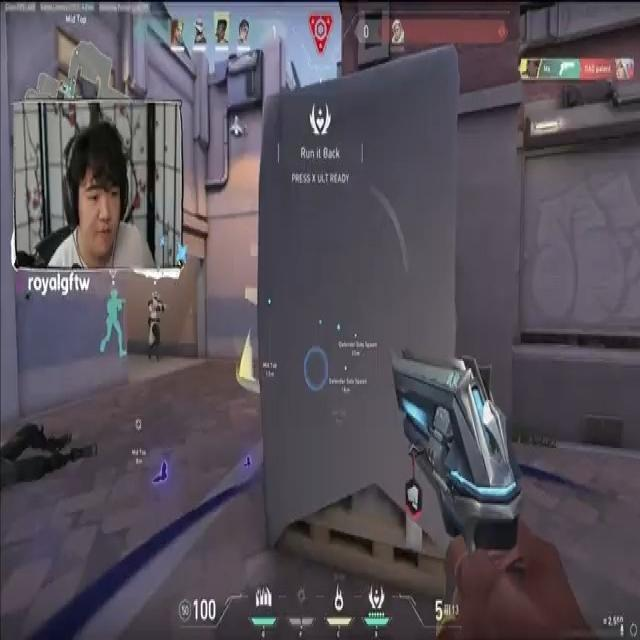ally: (145, 289, 169, 368)
ally behind wall: (102, 285, 129, 360)
